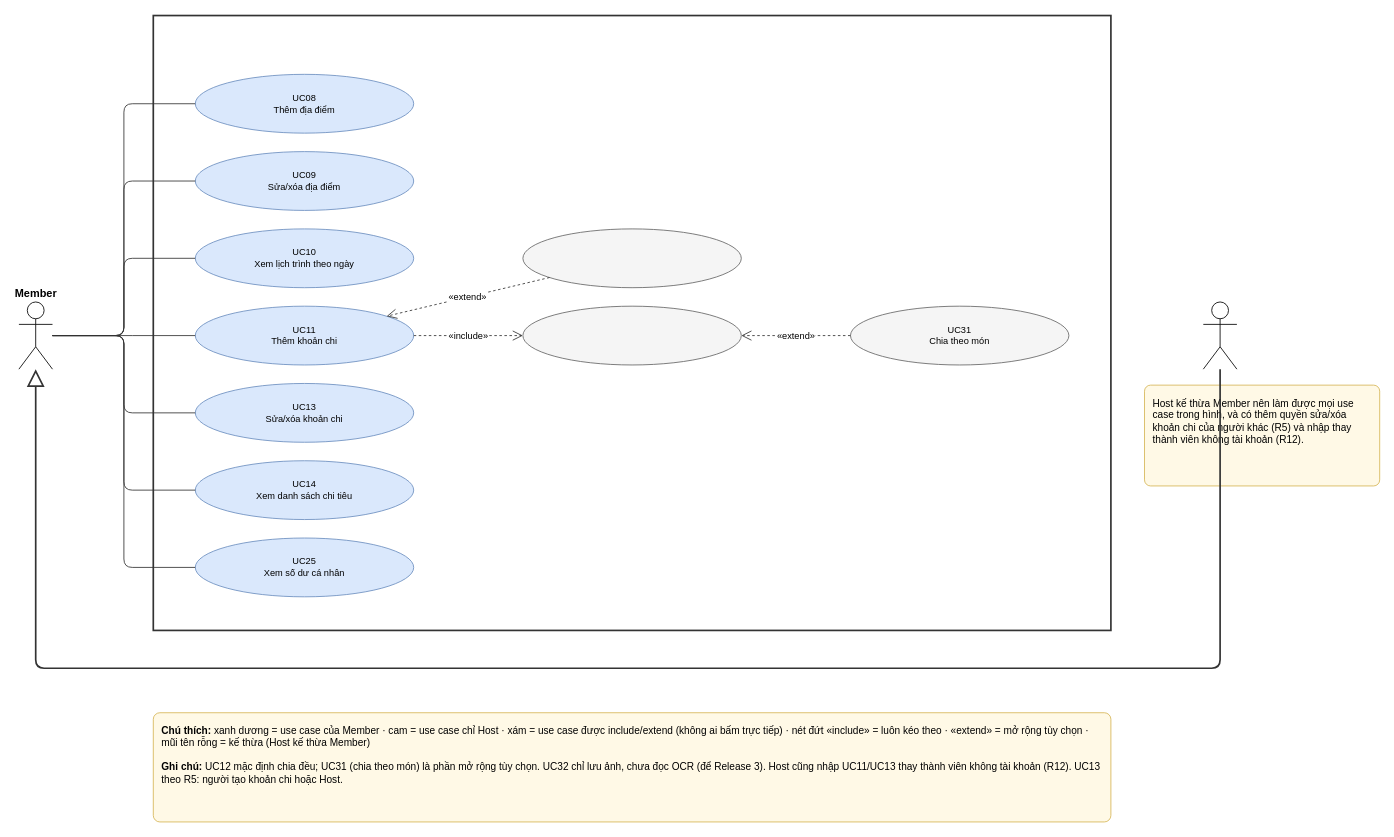
Some shapes in this 1394 by 837 pixel diagram are drawn without their labels. Each missing label, with the box of its shape:
Host: (1202, 301, 1237, 369)
Nhóm LỊCH TRÌNH và CHI TIÊU: (152, 14, 1111, 631)
UC12 Chia tiền khoản chi: (522, 305, 741, 365)
UC32 Đính kèm ảnh hóa đơn: (522, 228, 741, 288)
